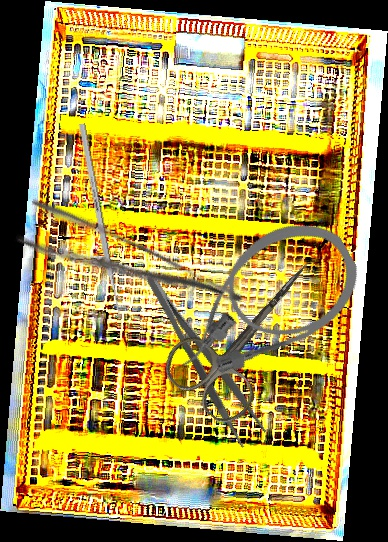Cannula: (146, 202, 376, 399)
Dressing Forceps: (13, 193, 249, 341), (140, 262, 270, 451)
Iris Scissors: (154, 233, 346, 432)
Pusher: (78, 123, 125, 328)
